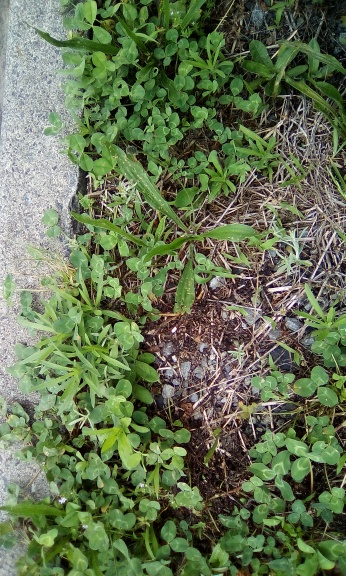4leaf: (113, 321, 144, 350)
